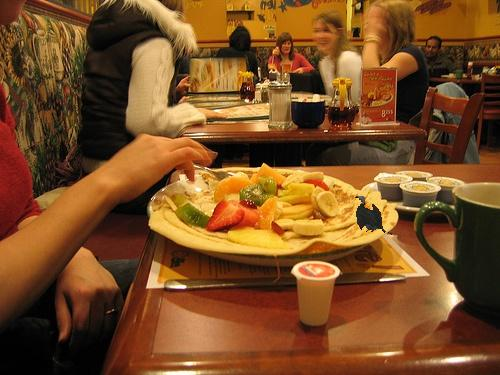tampered: (356, 197, 410, 235)
